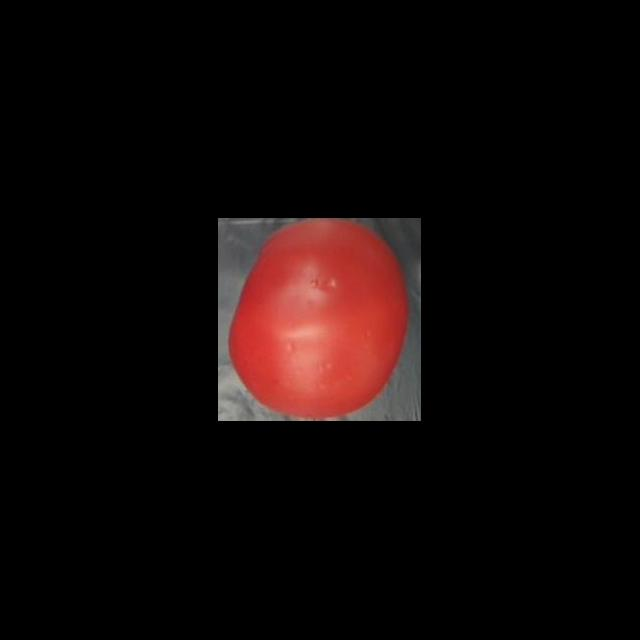tomato: (224, 218, 416, 422)
